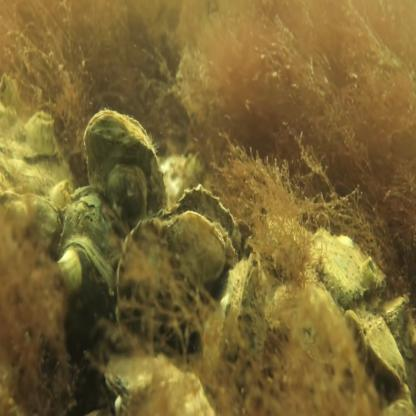Oyster- Indeterminate: (0, 196, 64, 254)
Oyster-Closed: (84, 108, 165, 209), (312, 225, 384, 299), (56, 234, 118, 316), (61, 189, 129, 261), (122, 366, 218, 416), (345, 308, 405, 386), (104, 345, 173, 403), (108, 165, 147, 225)
Oyster-Open: (138, 184, 238, 288)
